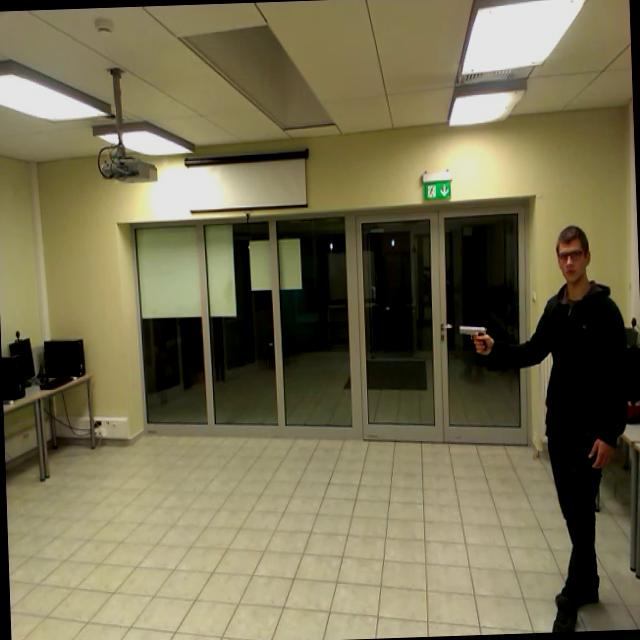handgun: (448, 313, 498, 369)
